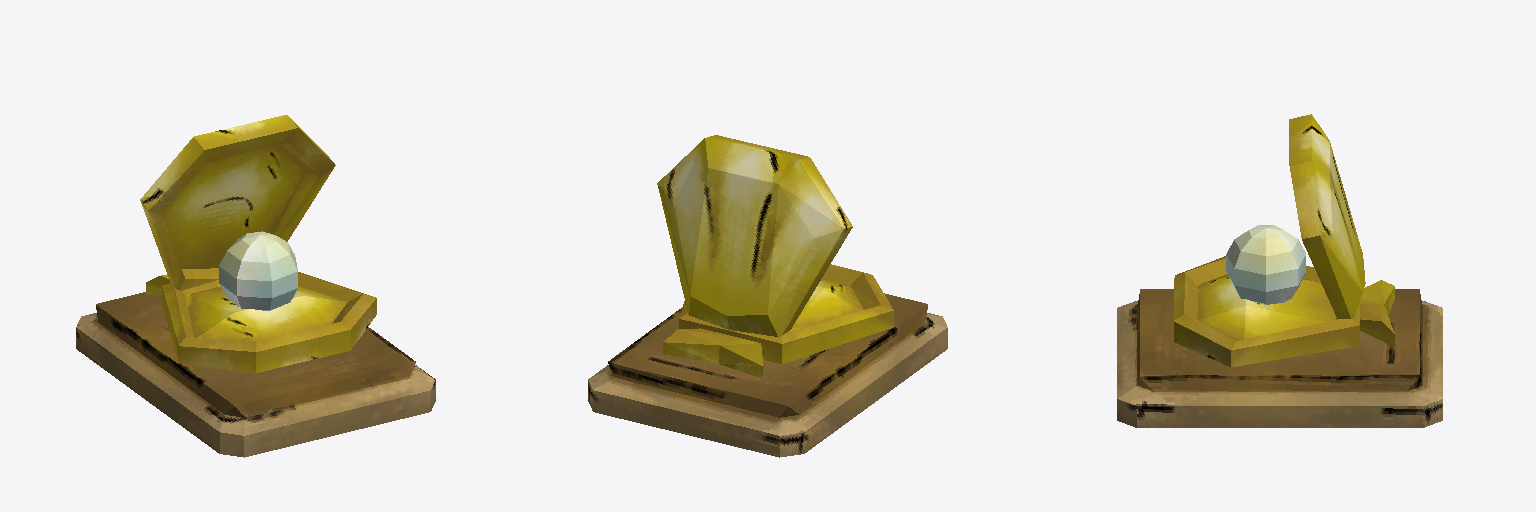
The picture shows the model from 3 angles: view 1: azimuth 30°, elevation 25°; view 2: azimuth 150°, elevation 25°; view 3: azimuth 270°, elevation 25°; orthographic projection.
Parts seen in each view (by area): view 1: Quest_Oyster; view 2: Quest_Oyster; view 3: Quest_Oyster.
Part boxes in pixels (left/top/right/bottom): Quest_Oyster: left=76, top=115, right=435, bottom=457; Quest_Oyster: left=588, top=135, right=947, bottom=457; Quest_Oyster: left=1117, top=114, right=1442, bottom=427.
Bounding box in the file's own units: 0.7467 × 0.7863 × 0.9751.
Materials: 1 (1 with a texture image).